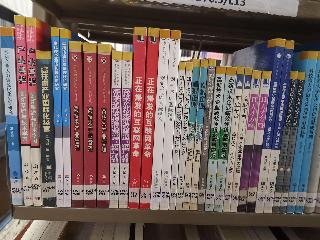book-spine: (284, 49, 318, 216), (255, 37, 285, 214), (264, 40, 292, 215), (147, 28, 172, 210), (293, 50, 320, 216), (0, 26, 23, 207), (244, 69, 272, 214), (138, 28, 160, 211), (14, 15, 35, 206), (158, 30, 180, 211), (279, 71, 306, 215), (236, 70, 262, 214), (126, 27, 146, 210), (35, 49, 58, 208), (202, 67, 227, 212), (273, 70, 298, 214), (228, 66, 252, 213), (196, 58, 217, 212), (25, 18, 42, 207), (223, 65, 244, 213), (214, 67, 235, 213), (174, 60, 194, 210), (167, 61, 187, 210), (116, 51, 134, 210), (189, 58, 207, 211), (68, 40, 84, 208), (81, 40, 97, 208), (95, 43, 111, 209), (183, 58, 200, 211), (51, 28, 64, 208), (59, 27, 72, 207), (109, 50, 121, 209)
